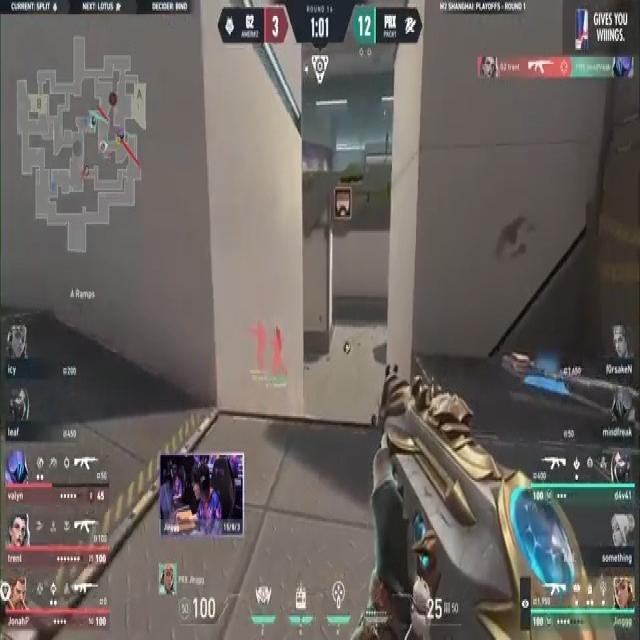enemy behind wall: (270, 323, 292, 380), (250, 325, 270, 368)
